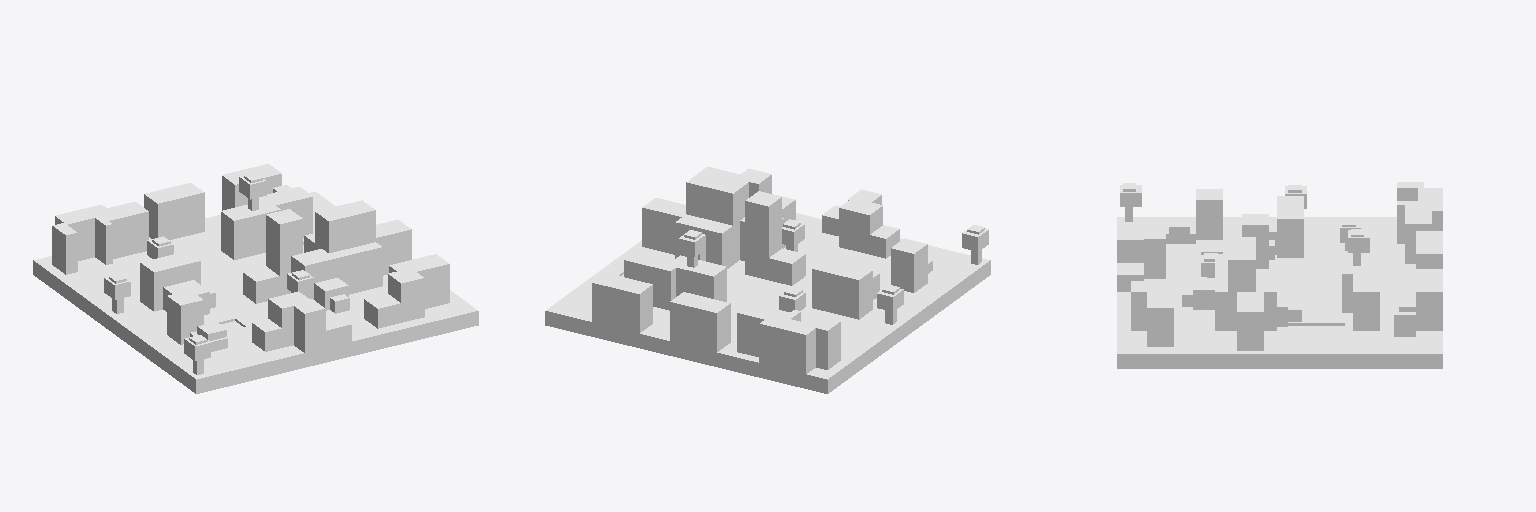
Rendered from backG.obj.
3 renders of one model, left to right at view 1: azimuth 30°, elevation 25°; view 2: azimuth 150°, elevation 25°; view 3: azimuth 270°, elevation 25°, orthographic.
Visible parts, largest first — view 1: backG; view 2: backG; view 3: backG.
Part boxes in pixels (x1,y1,x2,y2): backG: (33,164,478,393); backG: (545,167,990,393); backG: (1117,182,1442,368).
Bounding box in the file's own units: 120 × 36 × 120.